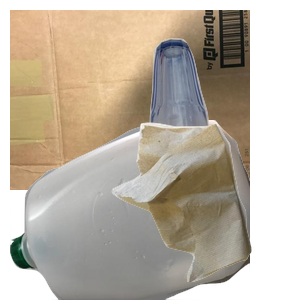cardboard: (10, 10, 250, 190)
glass: (147, 36, 300, 168)
plastic: (10, 120, 250, 300)
trash: (109, 120, 300, 300)
